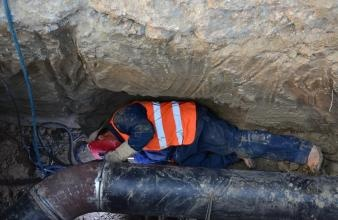falling: (89, 94, 317, 170)
